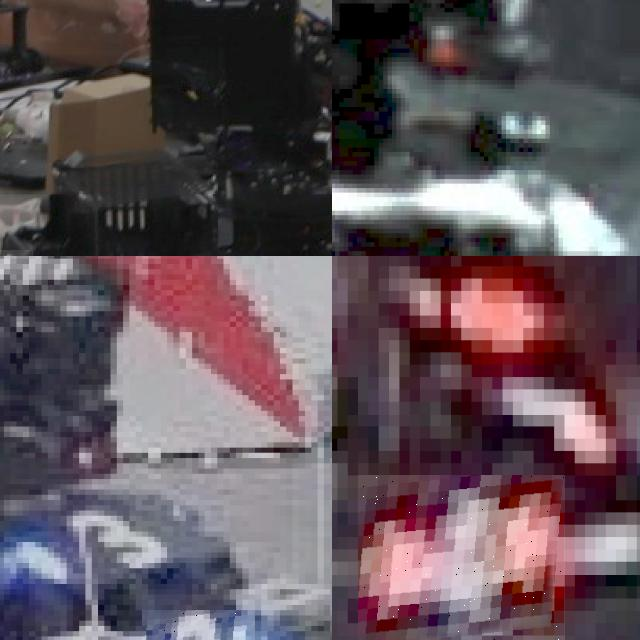B3: (4, 505, 211, 579), (142, 610, 255, 640)
R4: (358, 475, 564, 640)
